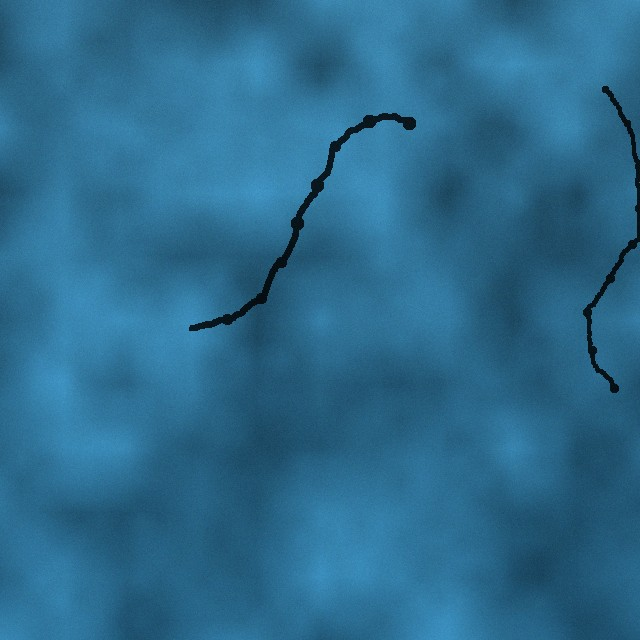crack: (185, 110, 415, 335), (583, 85, 639, 392)
